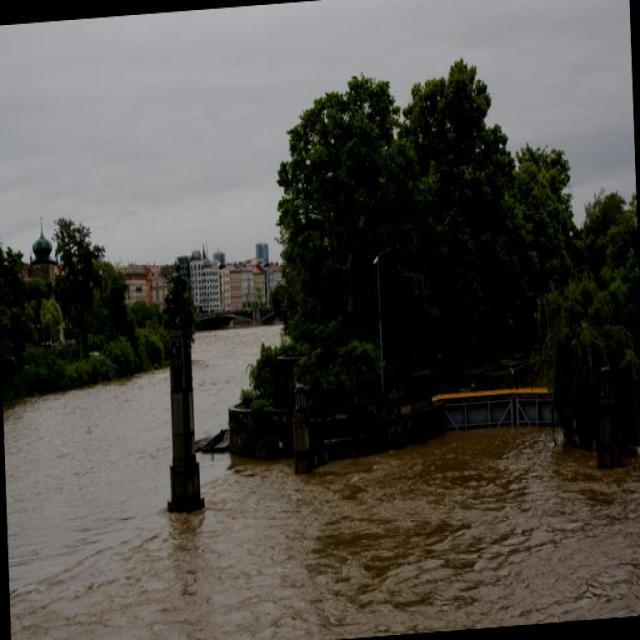flood: (0, 295, 639, 639)
